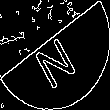N_NW: (29, 23, 81, 87)
